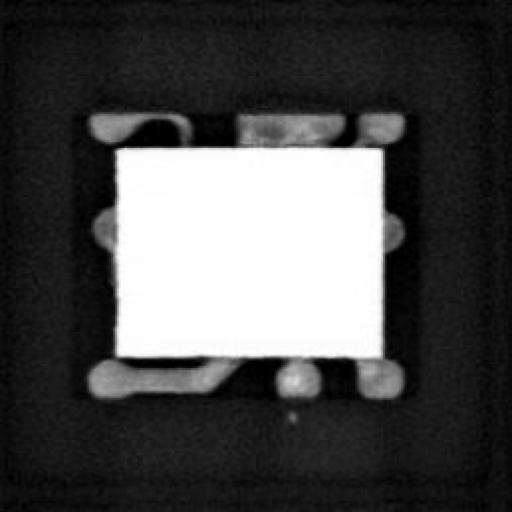DIE_INK: (284, 408, 298, 423)
